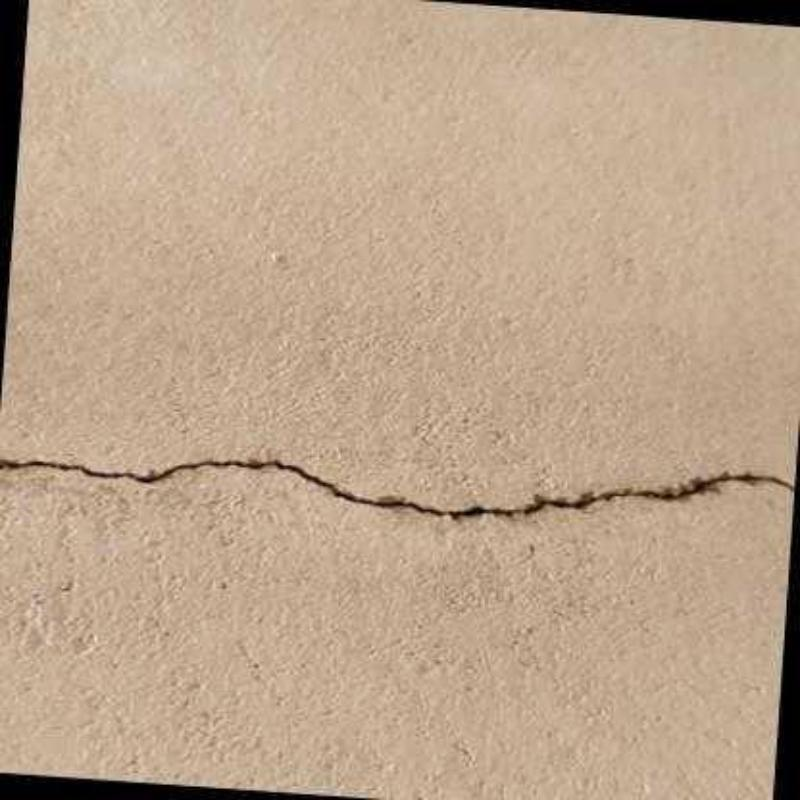pothole: (0, 460, 795, 521)
